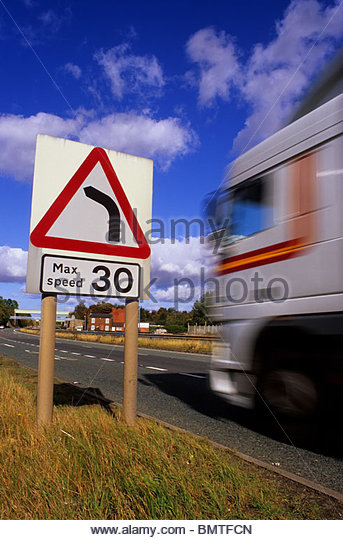Bend_to_left: (30, 147, 152, 259)
